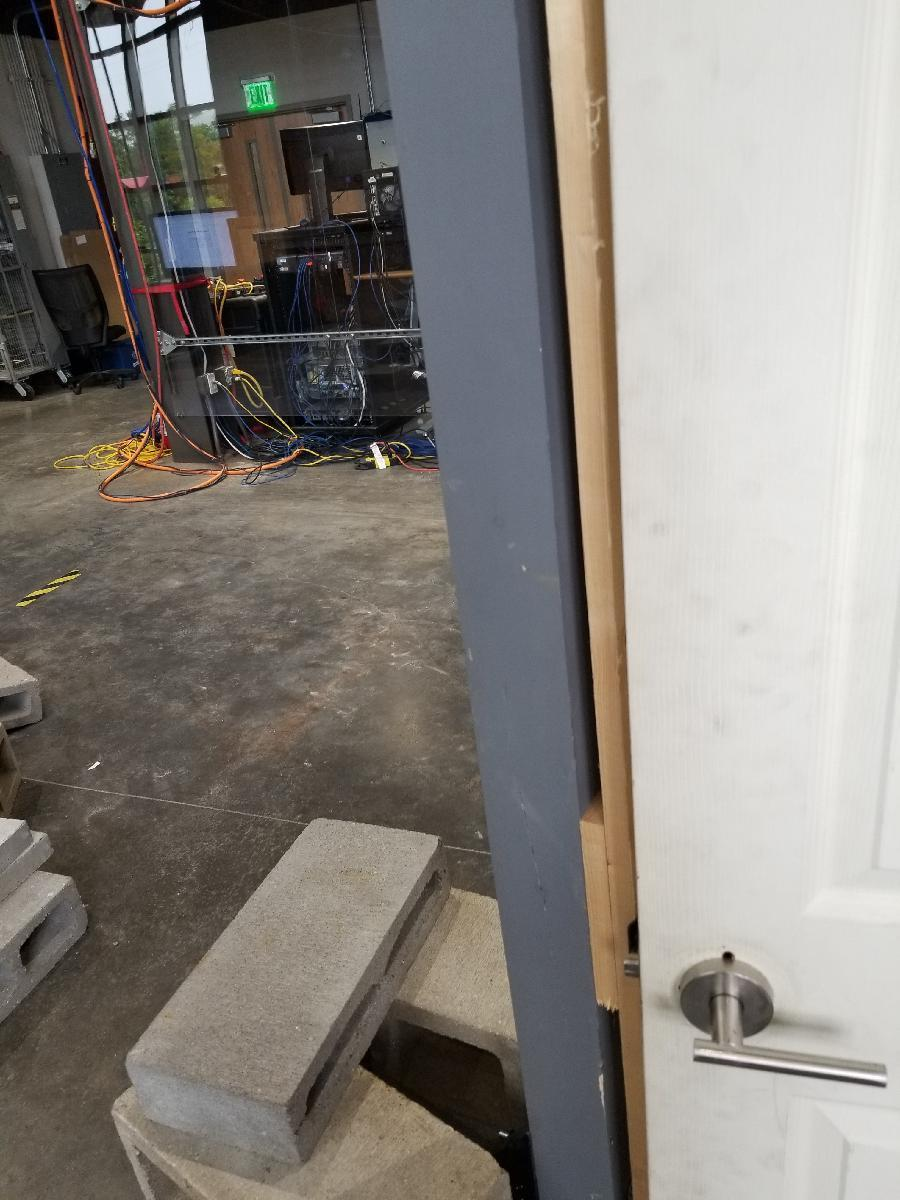door: (623, 0, 900, 1200)
handle: (671, 948, 893, 1103)
